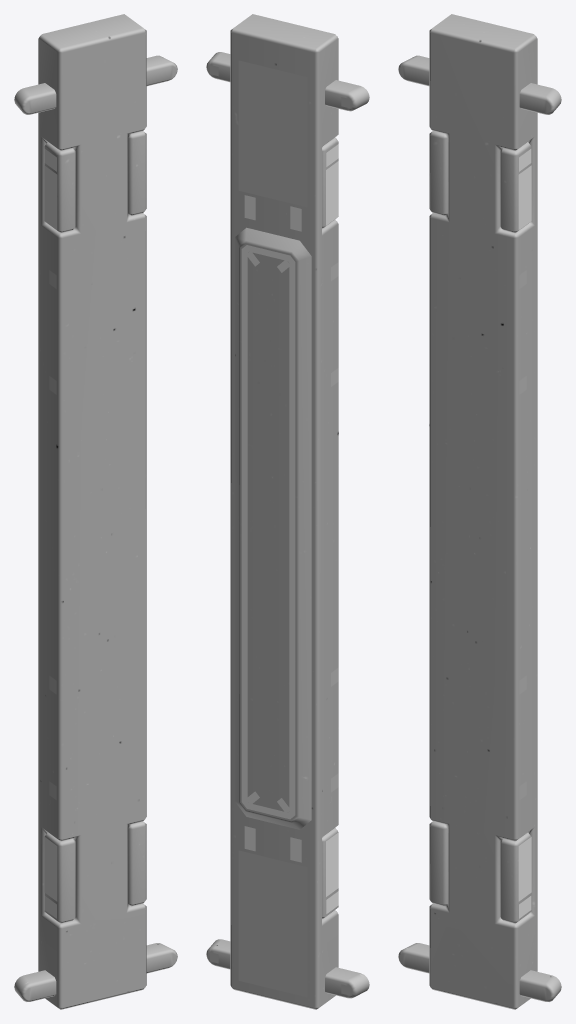
The model's file is SM_Modular_Interior_Part_3_Merged.fbx.
3 renders of one model, left to right at view 1: azimuth 30°, elevation 25°; view 2: azimuth 150°, elevation 25°; view 3: azimuth 330°, elevation 25°, orthographic.
Parts seen in each view (by area): view 1: SM_Modular_Interior_Part_3_Merged_LOD0; view 2: SM_Modular_Interior_Part_3_Merged_LOD0; view 3: SM_Modular_Interior_Part_3_Merged_LOD0.
Boxes of the visible parts, box(x1,y1,x2,y2) form: SM_Modular_Interior_Part_3_Merged_LOD0: box(14, 14, 177, 1009); SM_Modular_Interior_Part_3_Merged_LOD0: box(206, 14, 369, 1009); SM_Modular_Interior_Part_3_Merged_LOD0: box(398, 14, 561, 1009).
Size of the model in its own units: 59.64 by 18.08 by 350.
